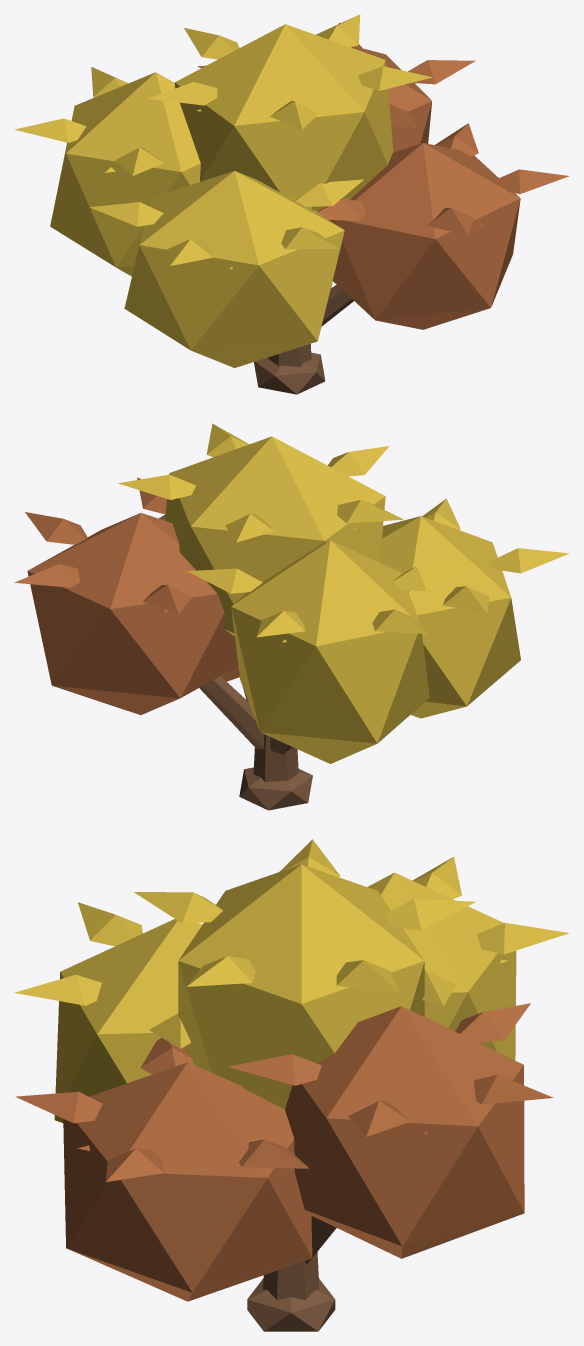
File: AutumnShrub.glb
The picture shows the model from 3 angles, top to bottom: view 1: azimuth 30°, elevation 25°; view 2: azimuth 150°, elevation 25°; view 3: azimuth 270°, elevation 25°; orthographic projection. The views are drawn at different scales.
Parts seen in each view (by area): view 1: AutumnShrub_FullGold, AutumnShrub_FullRusset, AutumnShrub_Wood; view 2: AutumnShrub_FullGold, AutumnShrub_FullRusset, AutumnShrub_Wood; view 3: AutumnShrub_FullRusset, AutumnShrub_FullGold, AutumnShrub_Wood.
Boxes of the visible parts, x1,y1,x2,y2 form: AutumnShrub_FullGold: (14,14,432,367); AutumnShrub_FullRusset: (197,22,569,329); AutumnShrub_Wood: (254,284,353,394); AutumnShrub_FullGold: (118,423,569,763); AutumnShrub_FullRusset: (14,477,239,714); AutumnShrub_Wood: (199,671,312,810); AutumnShrub_FullRusset: (15,1003,553,1301); AutumnShrub_FullGold: (14,839,569,1123); AutumnShrub_Wood: (247,1216,336,1331).
Bounding box in the file's own units: 0.8618 × 0.7 × 0.7576.
